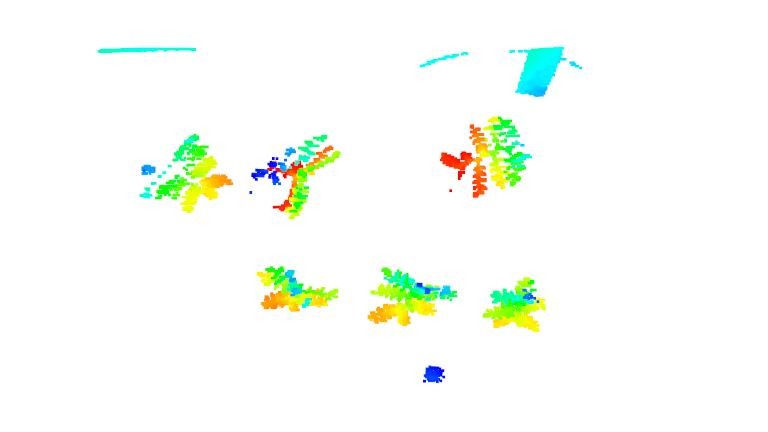chickpea: (247, 130, 344, 221), (134, 132, 236, 216), (437, 114, 533, 201), (364, 265, 461, 329), (256, 263, 341, 318), (481, 276, 550, 336)
